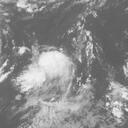cyclone: (15, 50, 73, 95)
